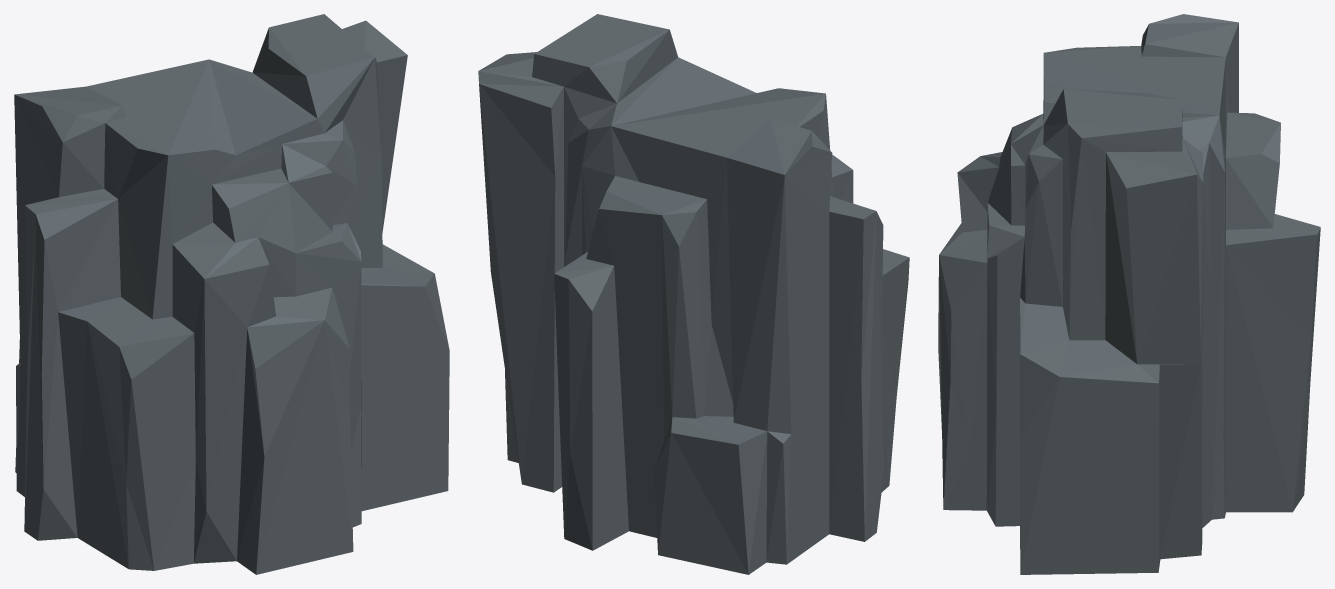
The model's file is Rock_Big_1_LOD1.fbx.
The picture shows the model from 3 angles, left to right: view 1: azimuth 30°, elevation 25°; view 2: azimuth 150°, elevation 25°; view 3: azimuth 270°, elevation 25°; orthographic projection.
Parts seen in each view (by area): view 1: polySurface10325; view 2: polySurface10325; view 3: polySurface10325.
Boxes of the visible parts, box(x1,y1,x2,y2) form: polySurface10325: box(14, 14, 449, 574); polySurface10325: box(478, 14, 909, 574); polySurface10325: box(938, 14, 1320, 574).
Bounding box in the file's own units: 594 × 652 × 529.
